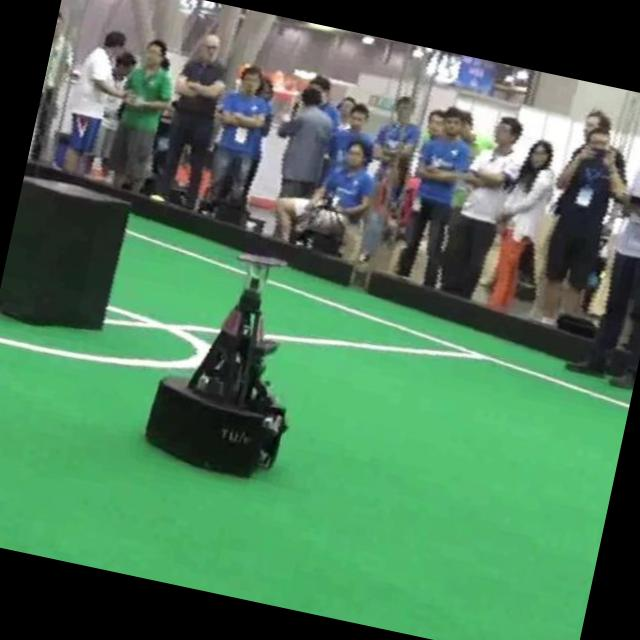robot: (145, 253, 286, 476)
